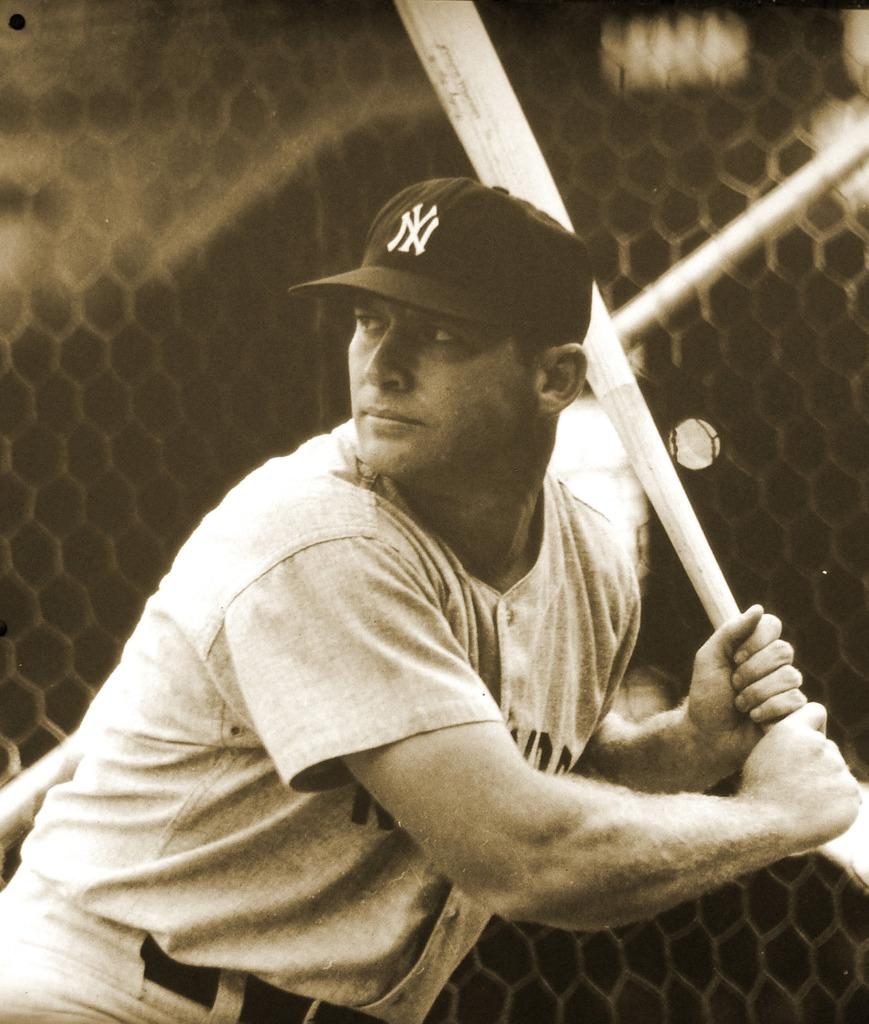Hat: (286, 169, 596, 341)
